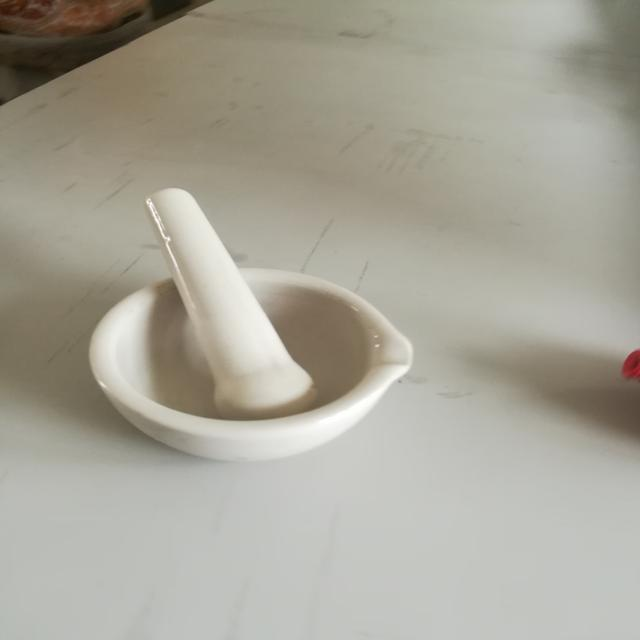Porcelain_Mortar Pestle: (52, 150, 459, 493)
